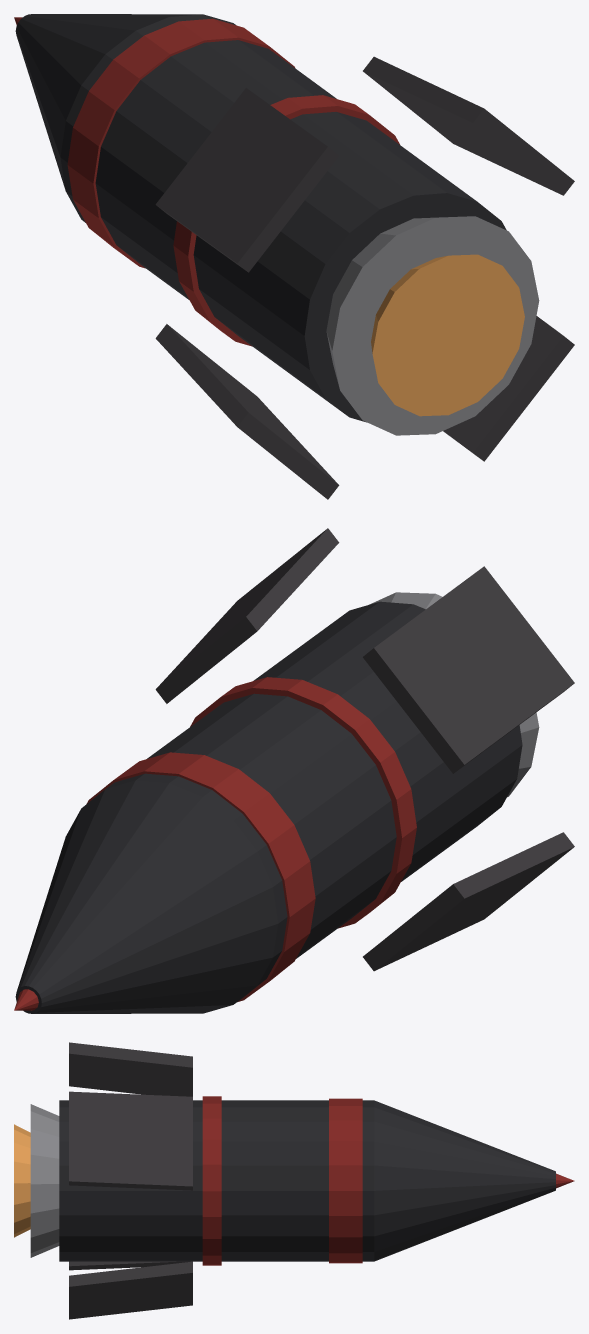
File: enemy_rocket.glb
3 renders of one model, top to bottom at view 1: azimuth 30°, elevation 25°; view 2: azimuth 150°, elevation 25°; view 3: azimuth 270°, elevation 25°, orthographic. The views are drawn at different scales.
Visible parts, largest first — view 1: Rocket; view 2: Rocket; view 3: Rocket.
Boxes of the visible parts, box(x1,y1,x2,y2) form: Rocket: box(14, 14, 574, 499); Rocket: box(14, 528, 574, 1013); Rocket: box(14, 1042, 574, 1319).
Size of the model in its own units: 0.5268 by 0.5268 by 1.18.
